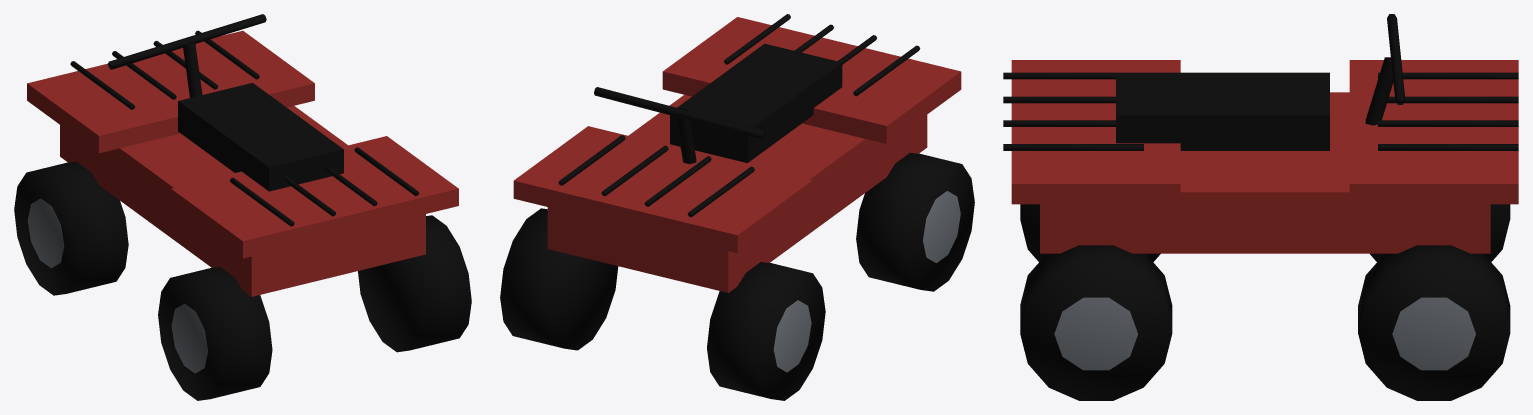
Rendered from vehicle.bike.quad.glb.
3 renders of one model, left to right at view 1: azimuth 30°, elevation 25°; view 2: azimuth 150°, elevation 25°; view 3: azimuth 270°, elevation 25°, orthographic. The views are drawn at different scales.
Parts seen in each view (by area): view 1: main__enamel_922, main__rubber, main__paint_777; view 2: main__enamel_922, main__rubber, main__paint_777; view 3: main__enamel_922, main__rubber, main__paint_777.
Part boxes in pixels (box(x1,y1,x2,y2)): main__enamel_922: box(27, 30, 458, 296); main__rubber: box(14, 14, 471, 400); main__paint_777: box(27, 198, 207, 373); main__enamel_922: box(513, 17, 961, 292); main__rubber: box(500, 14, 974, 400); main__paint_777: box(773, 191, 960, 372); main__enamel_922: box(1011, 60, 1518, 253); main__rubber: box(1003, 14, 1518, 400); main__paint_777: box(1054, 297, 1475, 370).
Size of the model in its own units: 1.21 by 1.09 by 1.83.
